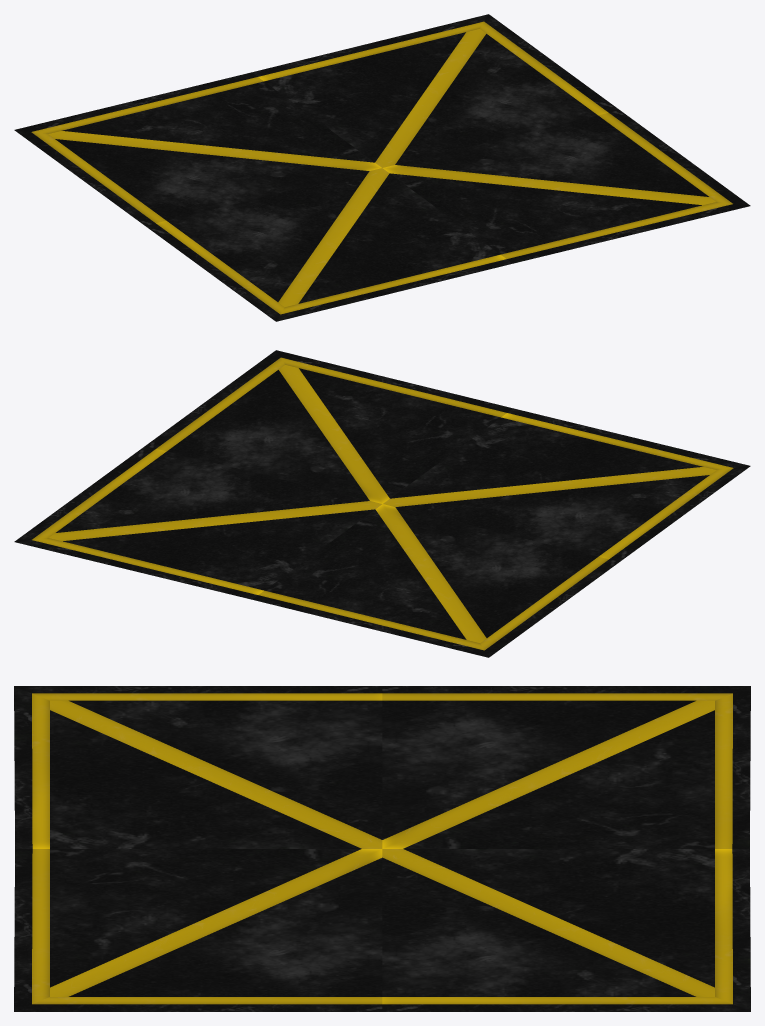
File: RoadCenter.fbx
3 renders of one model, top to bottom at view 1: azimuth 30°, elevation 25°; view 2: azimuth 150°, elevation 25°; view 3: azimuth 270°, elevation 25°, orthographic. The views are drawn at different scales.
Visible parts, largest first — view 1: RoadCenter_done; view 2: RoadCenter_done; view 3: RoadCenter_done.
Part boxes in pixels (x1=…): RoadCenter_done: x1=14, y1=14, x2=750, y2=321; RoadCenter_done: x1=14, y1=350, x2=750, y2=657; RoadCenter_done: x1=14, y1=686, x2=750, y2=1011.
Bounding box in the file's own units: 1110 × 1.14e-05 × 1062.
1 material, 1 textured.
